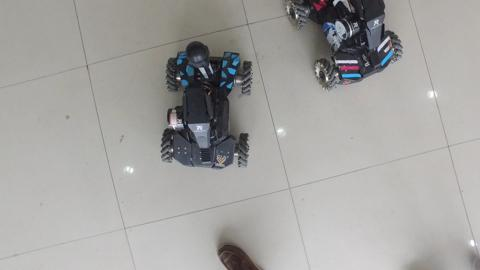chariot: (153, 37, 261, 180), (285, 1, 406, 94)
